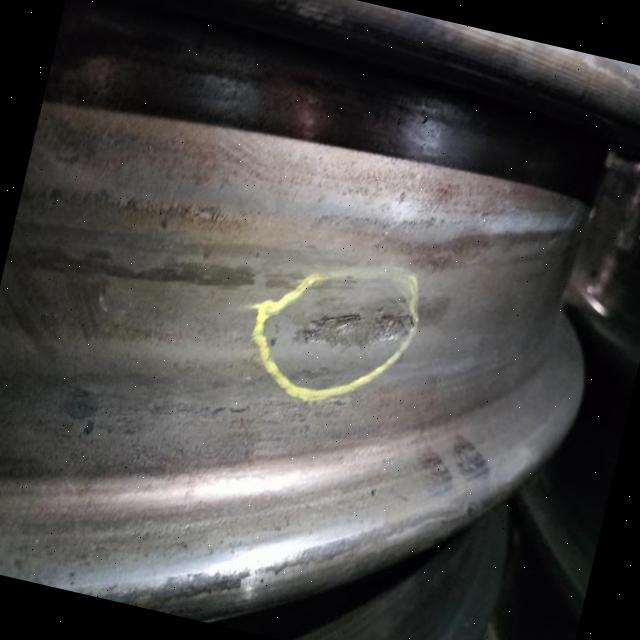Rollerpile: (301, 289, 418, 365)
